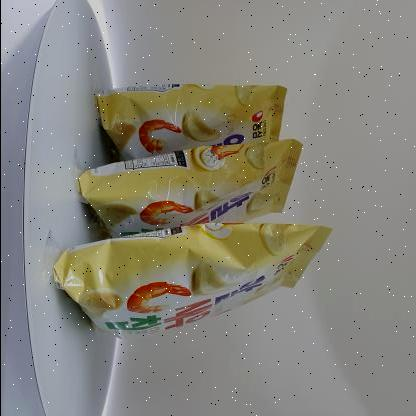Others: (42, 74, 338, 364)
